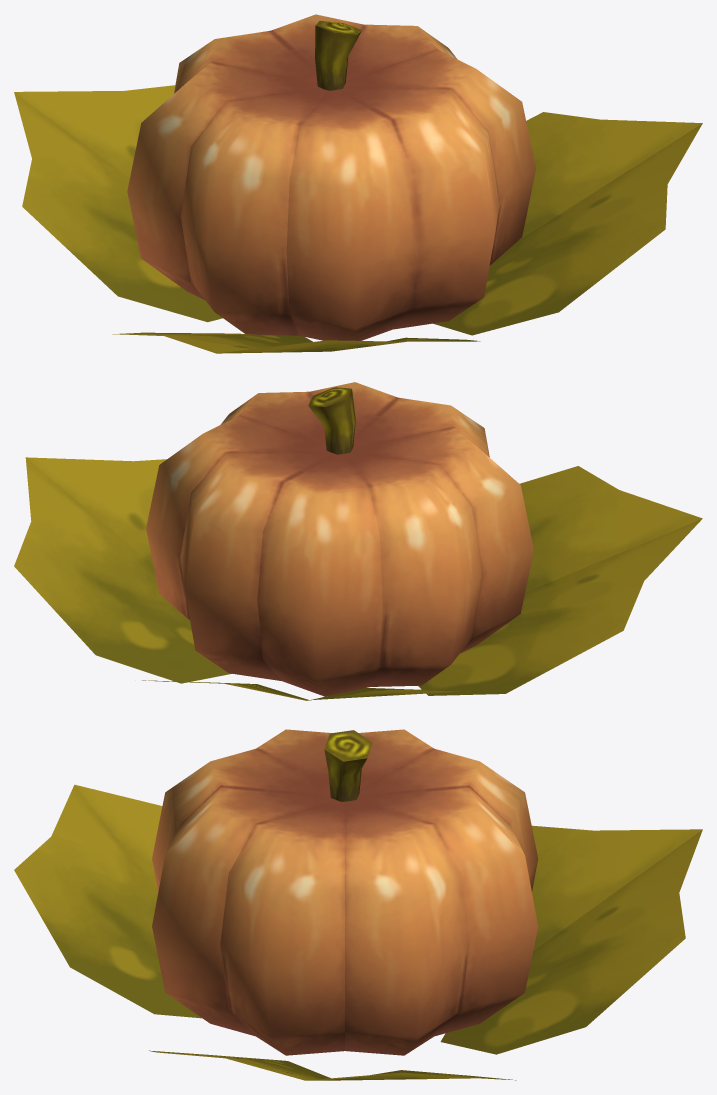
File: pumpkin_dead.fbx
3 renders of one model, top to bottom at view 1: azimuth 30°, elevation 25°; view 2: azimuth 150°, elevation 25°; view 3: azimuth 270°, elevation 25°, orthographic. The views are drawn at different scales.
Parts seen in each view (by area): view 1: pumpkin_dead; view 2: pumpkin_dead; view 3: pumpkin_dead.
Boxes of the visible parts, x1=… form: pumpkin_dead: x1=14, y1=14, x2=702, y2=353; pumpkin_dead: x1=14, y1=382, x2=702, y2=700; pumpkin_dead: x1=14, y1=729, x2=702, y2=1080.
Bounding box in the file's own units: 1.28 × 0.5857 × 1.23.
Materials: 1 (1 with a texture image).
